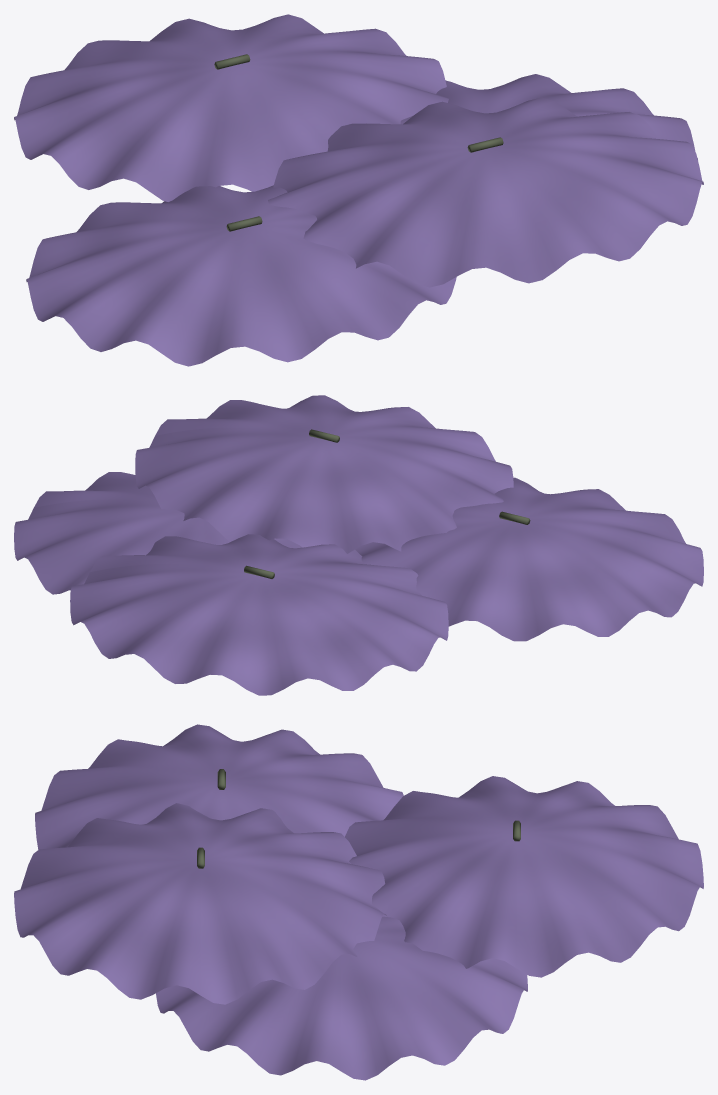
File: mushroom-desktop.glb
The picture shows the model from 3 angles, top to bottom: view 1: azimuth 30°, elevation 25°; view 2: azimuth 150°, elevation 25°; view 3: azimuth 270°, elevation 25°; orthographic projection. The views are drawn at different scales.
Parts seen in each view (by area): view 1: oral-disc, central-mouth; view 2: oral-disc, central-mouth; view 3: oral-disc.
Part boxes in pixels (left/top/right/bottom): oral-disc: left=14, top=14, right=703, bottom=366; central-mouth: left=214, top=54, right=503, bottom=231; oral-disc: left=14, top=395, right=703, bottom=695; central-mouth: left=244, top=429, right=530, bottom=578; oral-disc: left=14, top=724, right=703, bottom=1080.
Bounding box in the file's own units: 0.5632 × 0.0836 × 0.5079.
